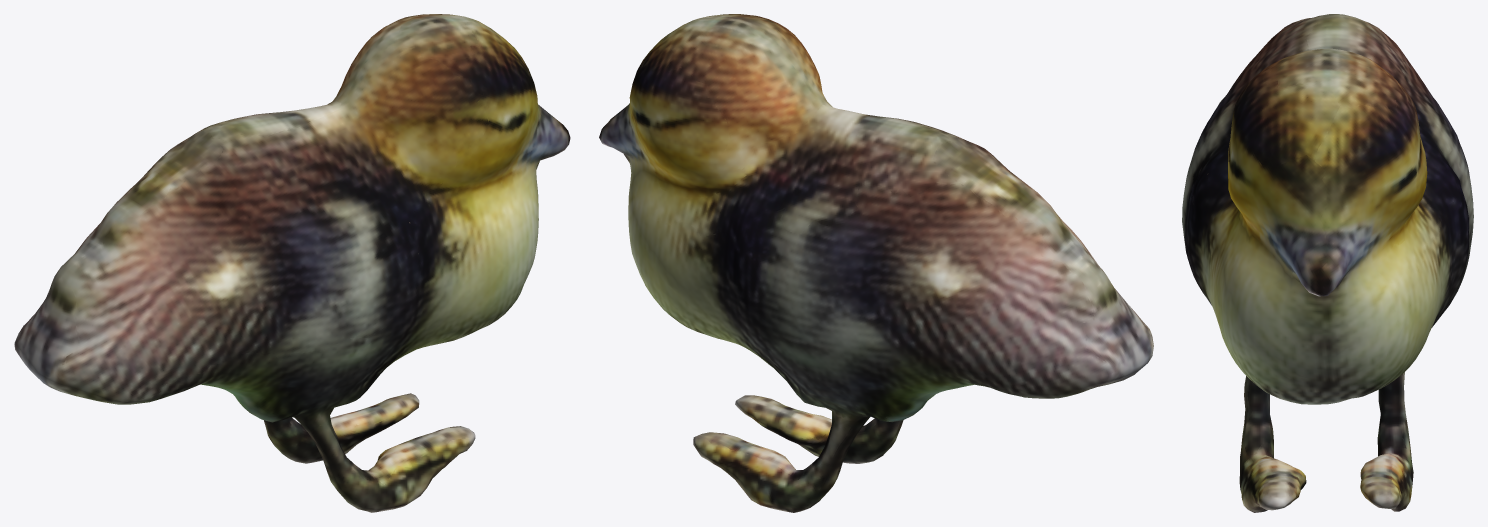
Rendered from bebe.glb.
3 renders of one model, left to right at view 1: azimuth 30°, elevation 25°; view 2: azimuth 150°, elevation 25°; view 3: azimuth 270°, elevation 25°, orthographic. The views are drawn at different scales.
Parts seen in each view (by area): view 1: mesh; view 2: mesh; view 3: mesh.
Boxes of the visible parts, left/top/right/bottom form: mesh: left=14, top=14, right=570, bottom=512; mesh: left=599, top=14, right=1153, bottom=512; mesh: left=1182, top=14, right=1473, bottom=512.
Bounding box in the file's own units: 1.93 × 1.52 × 0.8307.
1 material, 1 textured.
